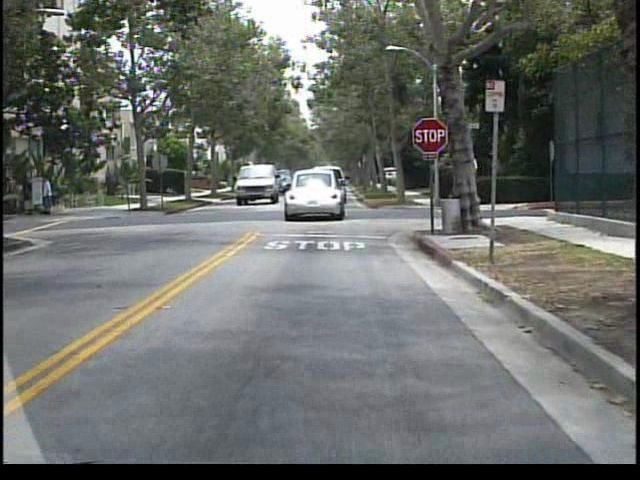person: (25, 172, 40, 218), (44, 170, 58, 215)
